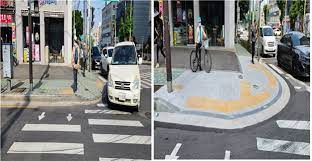guide_blocks: (186, 96, 240, 111), (257, 65, 274, 88), (241, 80, 252, 108), (255, 92, 269, 103)
